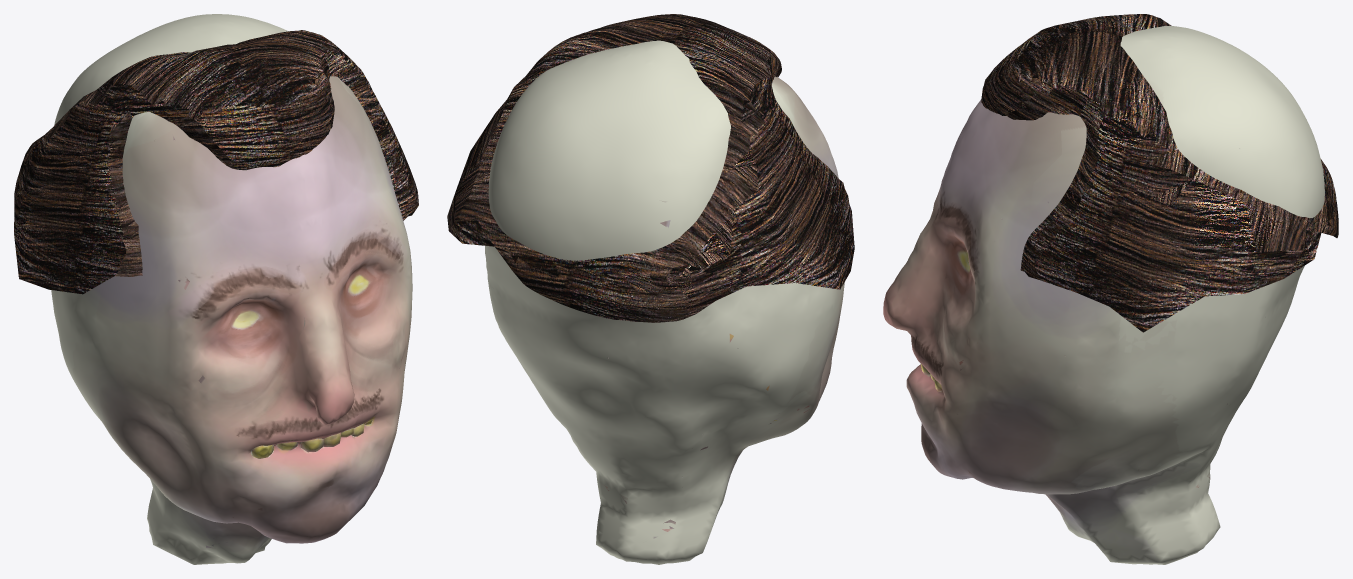
Rendered from SM_Holfred_Head.fbx.
3 renders of one model, left to right at view 1: azimuth 30°, elevation 25°; view 2: azimuth 150°, elevation 25°; view 3: azimuth 270°, elevation 25°, orthographic. The views are drawn at different scales.
Visible parts, largest first — view 1: SM_Holfred_Head; view 2: SM_Holfred_Head; view 3: SM_Holfred_Head.
Part boxes in pixels (bbox=[...]): SM_Holfred_Head: bbox=[14, 14, 418, 564]; SM_Holfred_Head: bbox=[447, 14, 854, 564]; SM_Holfred_Head: bbox=[883, 14, 1338, 564].
Size of the model in its own units: 42.08 by 53.78 by 42.65.
